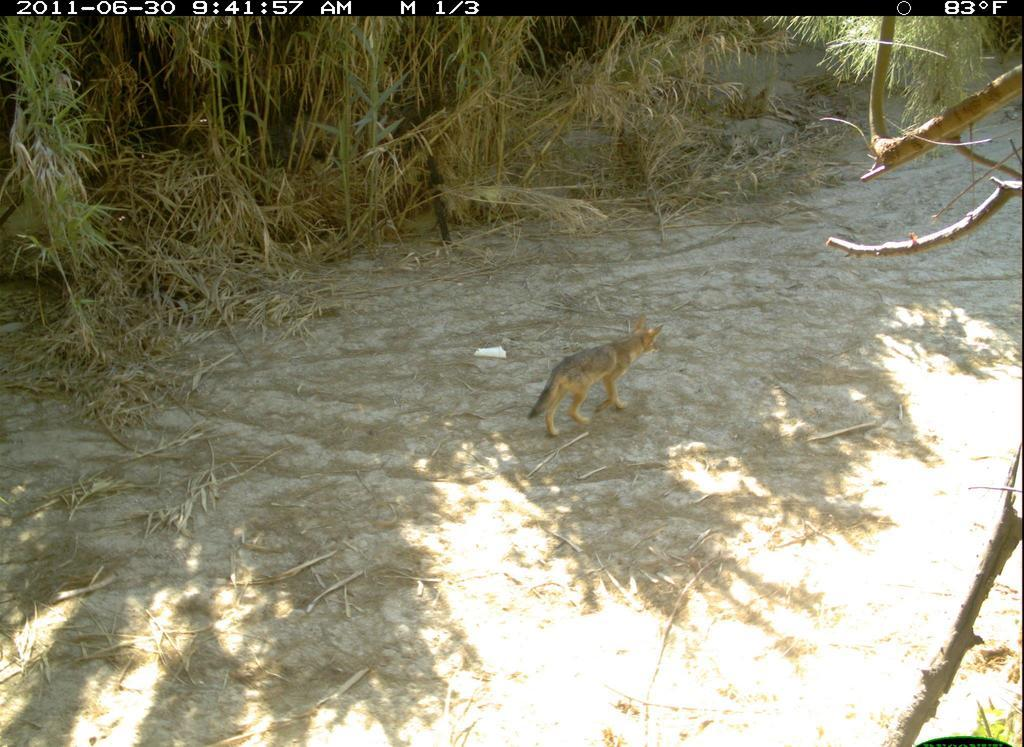coyote: (524, 310, 669, 442)
